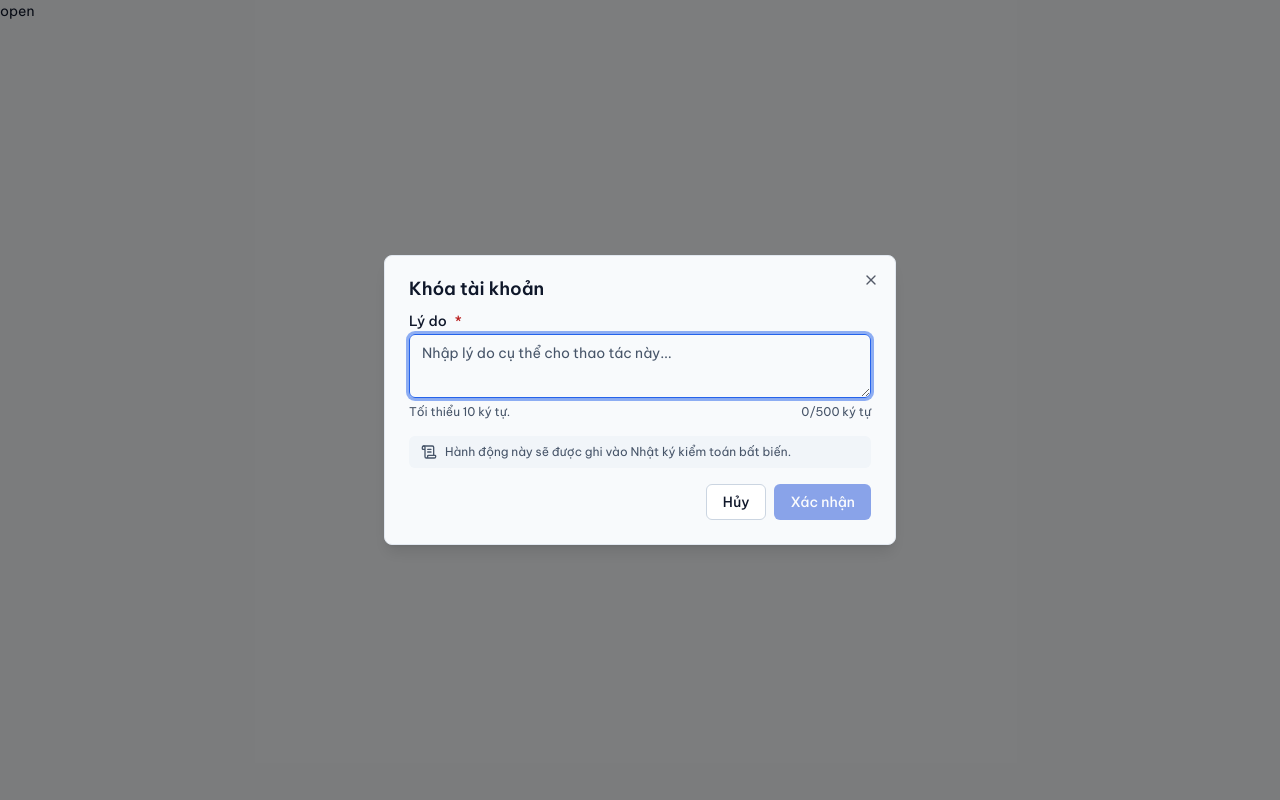
Scenario: AuditReasonDialog (BR-GEN-04) › keeps confirm disabled until the trimmed reason has ≥ 10 characters
This screenshot has width=1280, height=800.
Later steps or results of the test are not shown.
In the text box labelled "Lý do *": (640, 366) [409,334,871,398], type "   ngắn   "
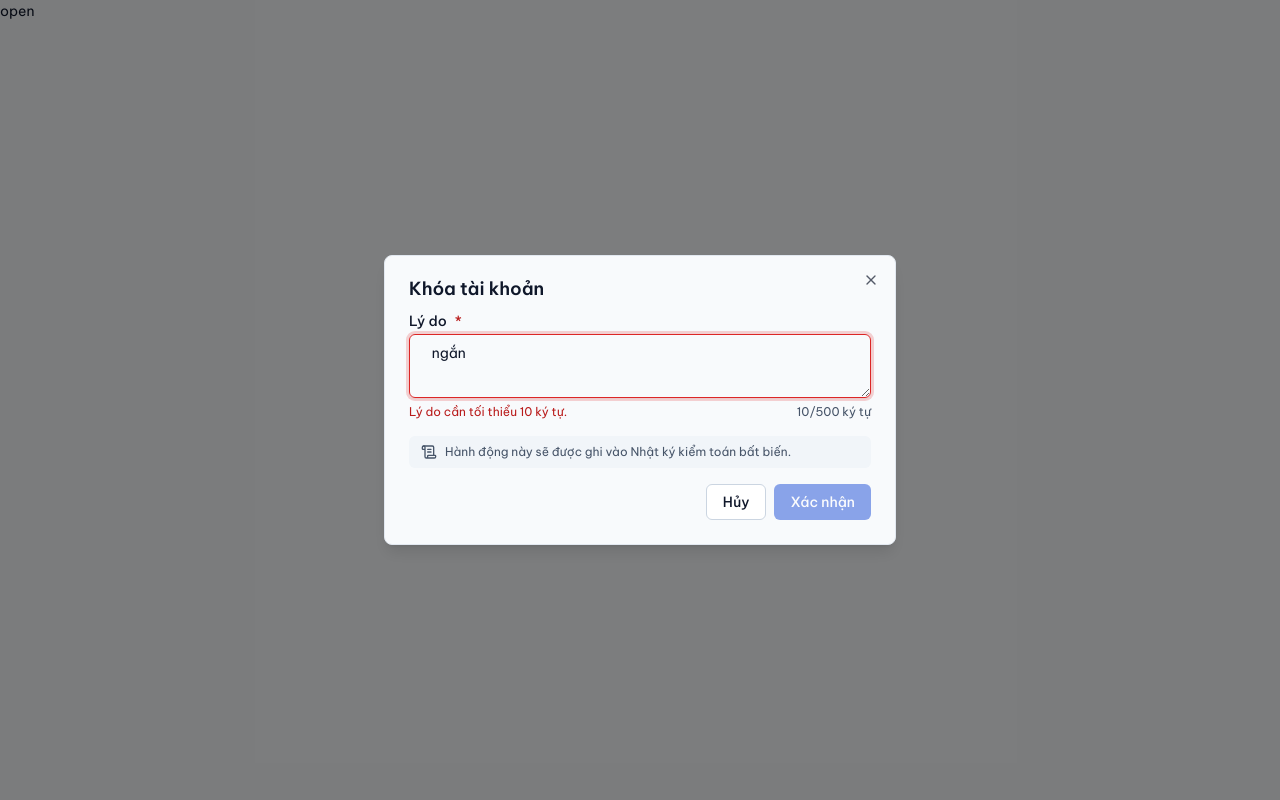
Result: the text "Lý do cần tối thiểu 10 ký tự." is shown at [409,404,567,420]
